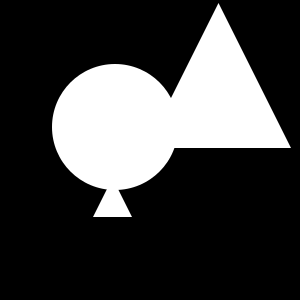rectangle: (52, 64, 178, 190), (120, 120, 172, 172)
triangle: (146, 3, 291, 148), (93, 178, 132, 217)
